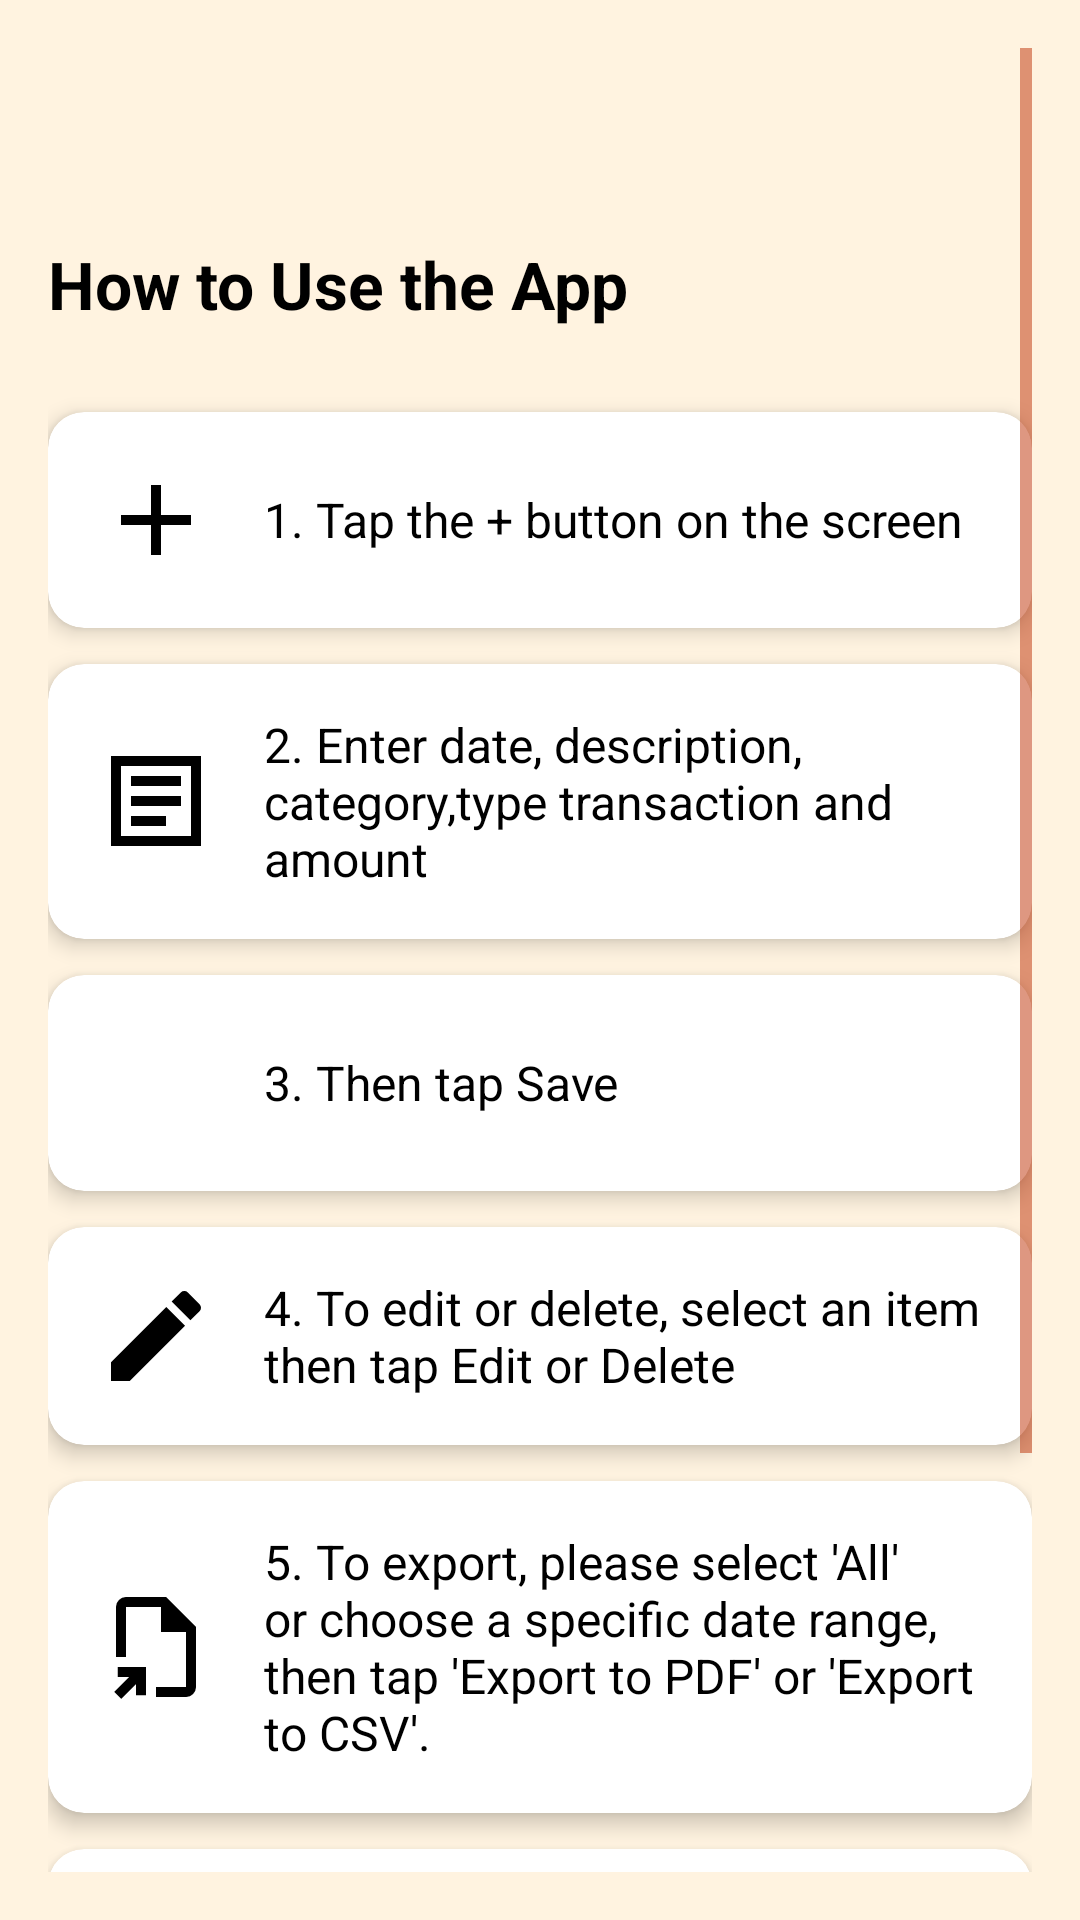

Screen size 1080x1920. Icon name, then its box in pixels as (x1, y1, x2, y2):
add: (121, 485, 191, 555)
file export: (114, 1597, 196, 1699)
input: (111, 756, 201, 846)
